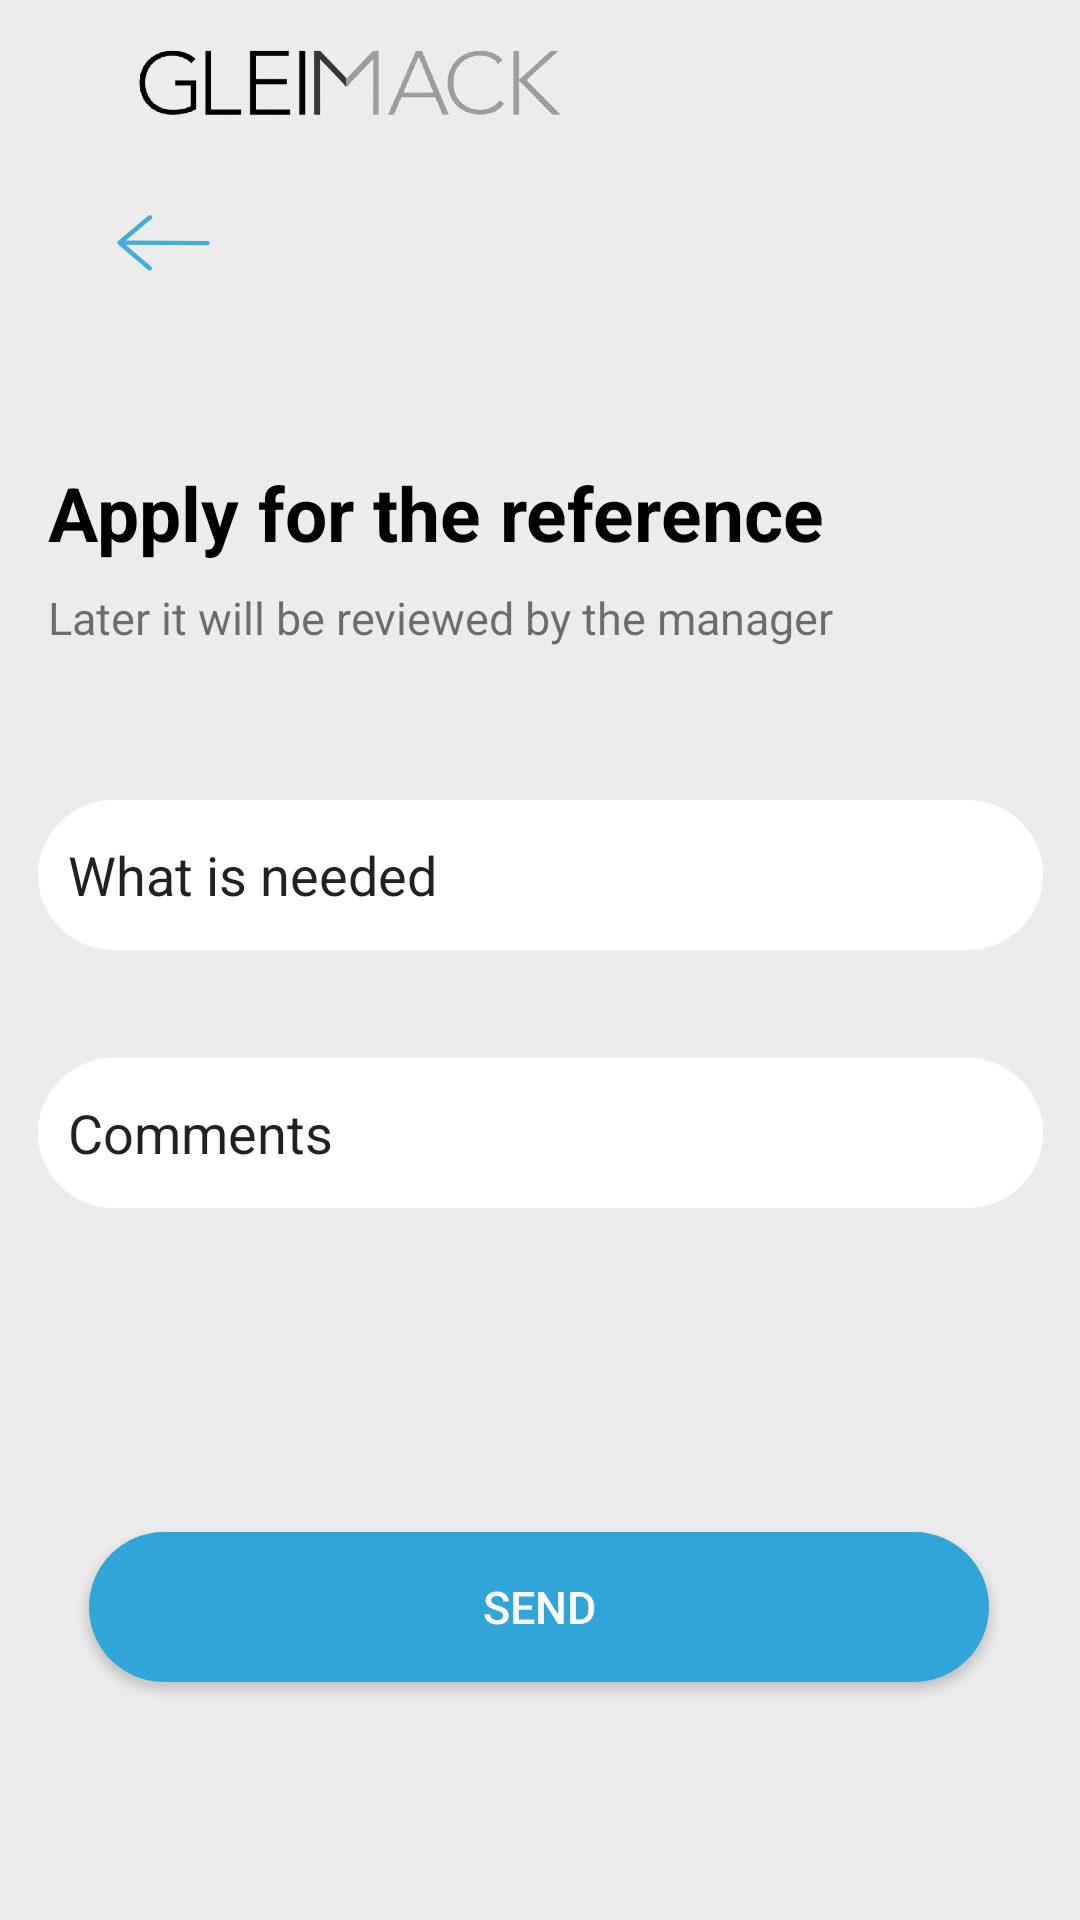

Screen size 1080px x 1920px. Icon name, then its box in pixels as (x1, y1, x2, y2):
arrow: (117, 215, 210, 271)
